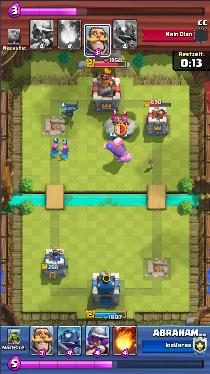ally_archer: (61, 143, 70, 160), (51, 143, 59, 156)
ally_giant: (103, 137, 132, 162)
ally_mini_pekka: (60, 105, 77, 117)
enemy_archer: (119, 116, 131, 128), (111, 115, 120, 127)
